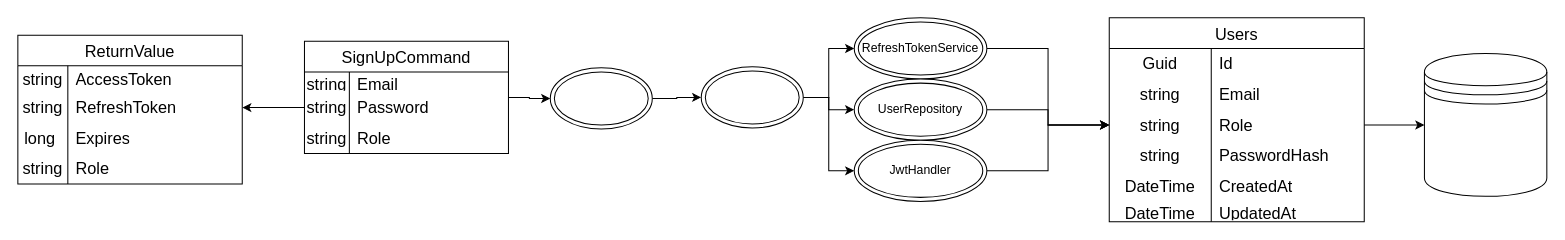
This 1565x240 diagram has some shape labels left out. Each missing label, with the centre of its shape:
"AuthController" belongs at (600,98).
"IdentityService" belongs at (751,97).
"Postgresql" belongs at (1485,124).
